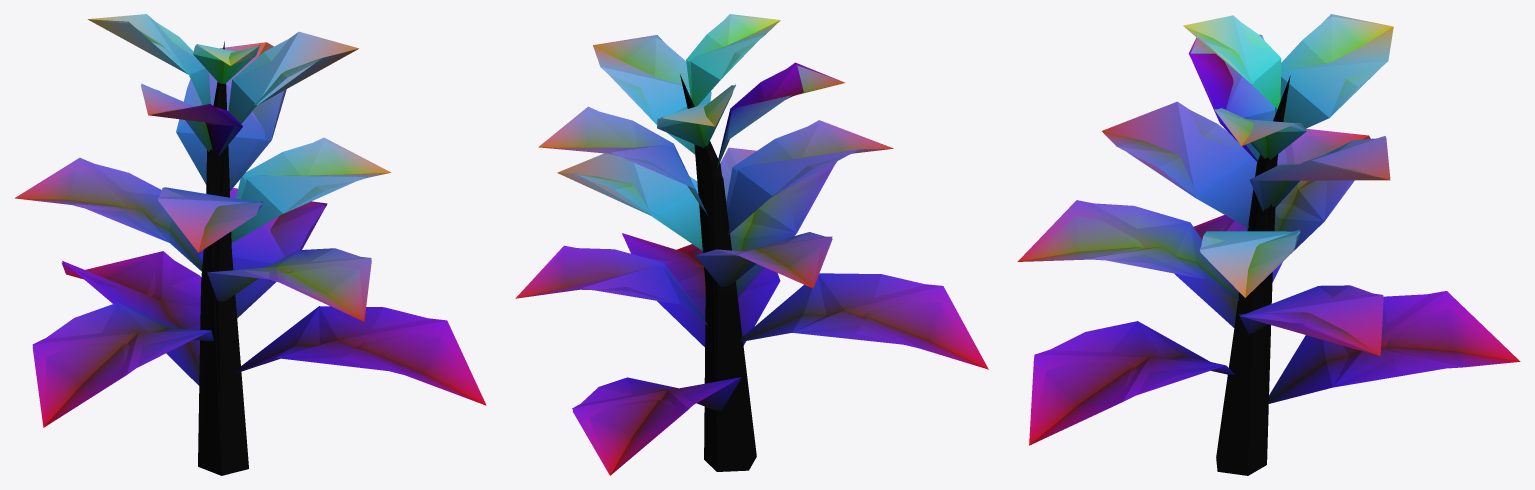
File: bigleafplant_01_tall.dae
3 views of the same model, side by side, from view 1: azimuth 30°, elevation 25°; view 2: azimuth 150°, elevation 25°; view 3: azimuth 270°, elevation 25° (orthographic).
Visible parts, largest first — view 1: bigleafa64, bigleafa224; view 2: bigleafa224, bigleafa64; view 3: bigleafa64, bigleafa224.
Part boxes in pixels (bbox=[...]): bigleafa64: bbox=[15, 14, 485, 475]; bigleafa224: bbox=[15, 19, 486, 463]; bigleafa224: bbox=[515, 16, 988, 475]; bigleafa64: bbox=[517, 14, 987, 474]; bigleafa64: bbox=[1017, 14, 1519, 475]; bigleafa224: bbox=[1018, 16, 1520, 475].
Size of what is drawn, in the model's own units: 2.06 by 2.29 by 2.18.
